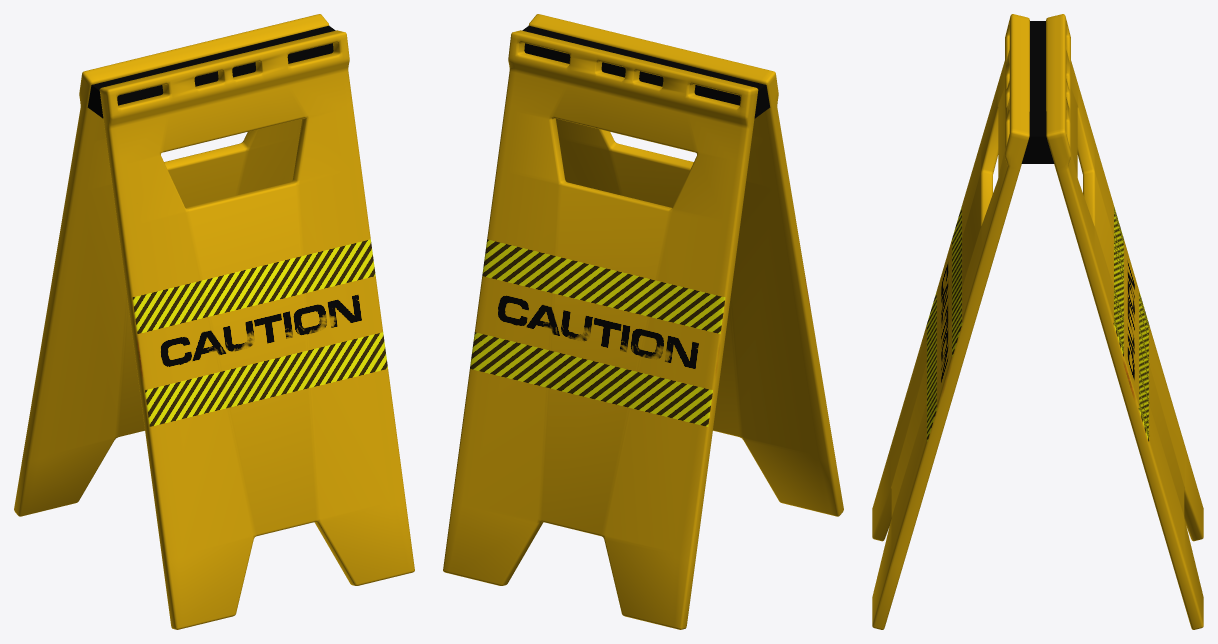
Rendered from caution1.fbx.
3 renders of one model, left to right at view 1: azimuth 30°, elevation 25°; view 2: azimuth 150°, elevation 25°; view 3: azimuth 270°, elevation 25°, orthographic.
Parts seen in each view (by area): view 1: caution1; view 2: caution1; view 3: caution1.
Boxes of the visible parts, x1=… form: caution1: x1=14, y1=14, x2=414, y2=629; caution1: x1=443, y1=14, x2=843, y2=629; caution1: x1=872, y1=14, x2=1203, y2=629.
Size of the model in its own units: 39.58 by 77.68 by 46.73.
